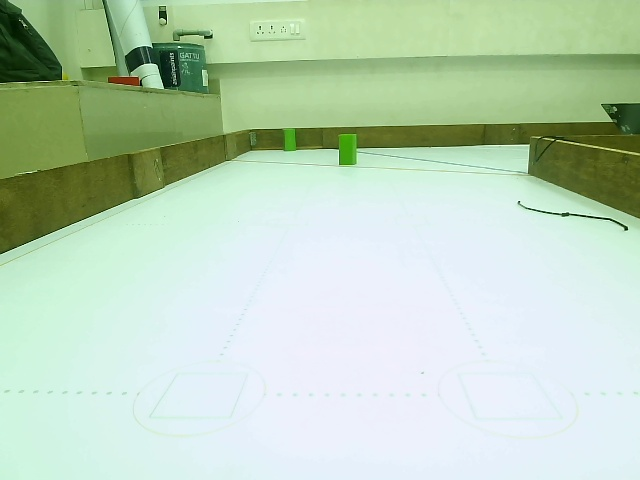green: (338, 132, 358, 165), (283, 129, 297, 151)
